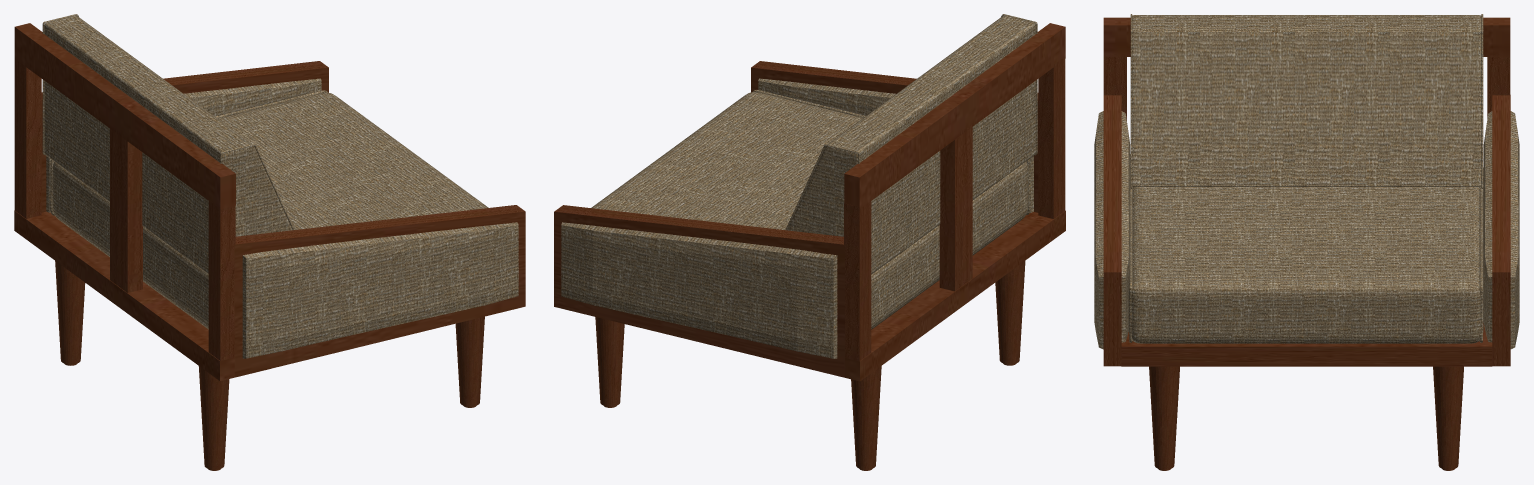
Rendered from Execchair2git.glb.
3 views of the same model, side by side, from view 1: azimuth 30°, elevation 25°; view 2: azimuth 150°, elevation 25°; view 3: azimuth 270°, elevation 25° (orthographic).
Visible parts, largest first — view 1: Cube.019, Cylinder.014; view 2: Cube.019, Cylinder.014; view 3: Cube.019, Cylinder.014.
Part boxes in pixels (x1,y1,x2,y2): Cube.019: (42,14,518,358); Cylinder.014: (14,23,525,470); Cube.019: (561,14,1037,358); Cylinder.014: (554,23,1065,470); Cube.019: (1094,14,1519,349); Cylinder.014: (1103,17,1510,470).
Size of the model in its own units: 2.95 by 3.04 by 3.59.
2 materials, 2 textured.
